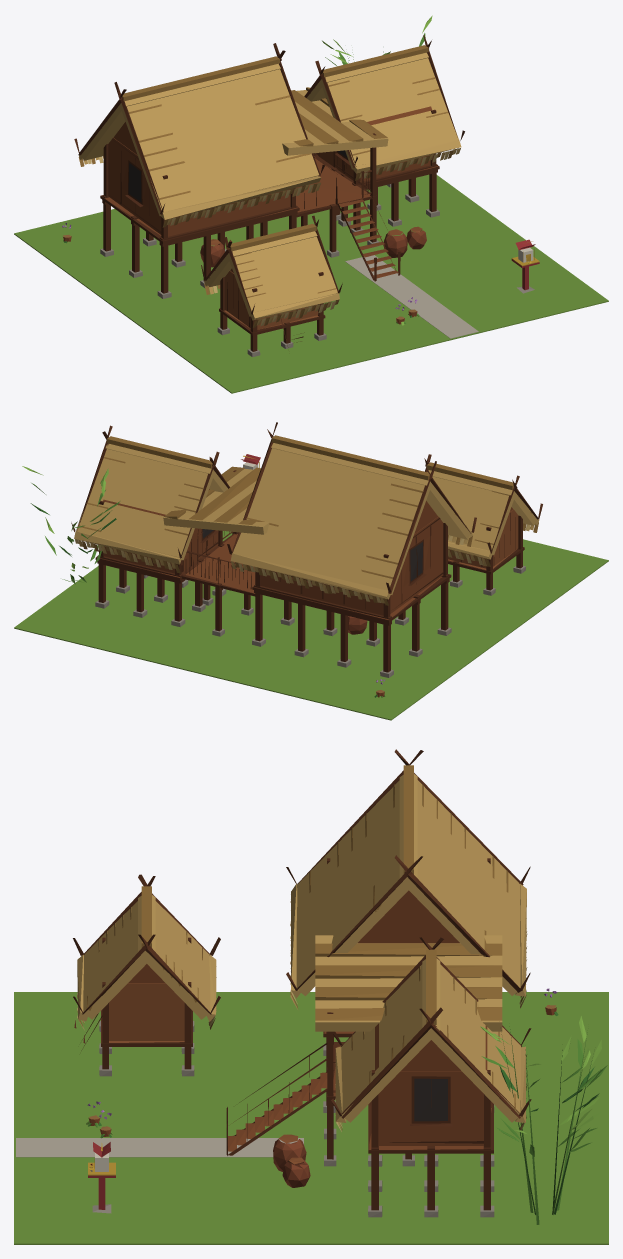
File: home_3.glb
The picture shows the model from 3 angles, top to bottom: view 1: azimuth 30°, elevation 25°; view 2: azimuth 150°, elevation 25°; view 3: azimuth 270°, elevation 25°; orthographic projection. The views are drawn at different scales.
Parts seen in each view (by area): view 1: body; view 2: body, windows; view 3: body, windows.
Part boxes in pixels (<box>): body: <box>14,15,608,393</box>; body: <box>14,422,608,720</box>; windows: <box>202,529,422,581</box>; body: <box>14,749,608,1244</box>; windows: <box>414,1078,447,1121</box>.
Size of the model in its own units: 16.62 by 8.1 by 15.9.
